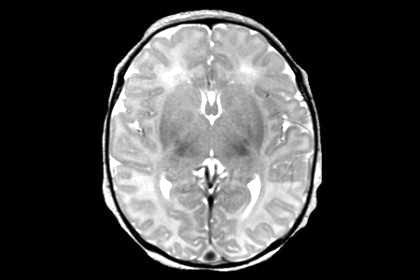Normal_Brain: (1, 3, 420, 280)
